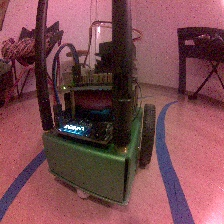rob: (40, 39, 156, 207)
